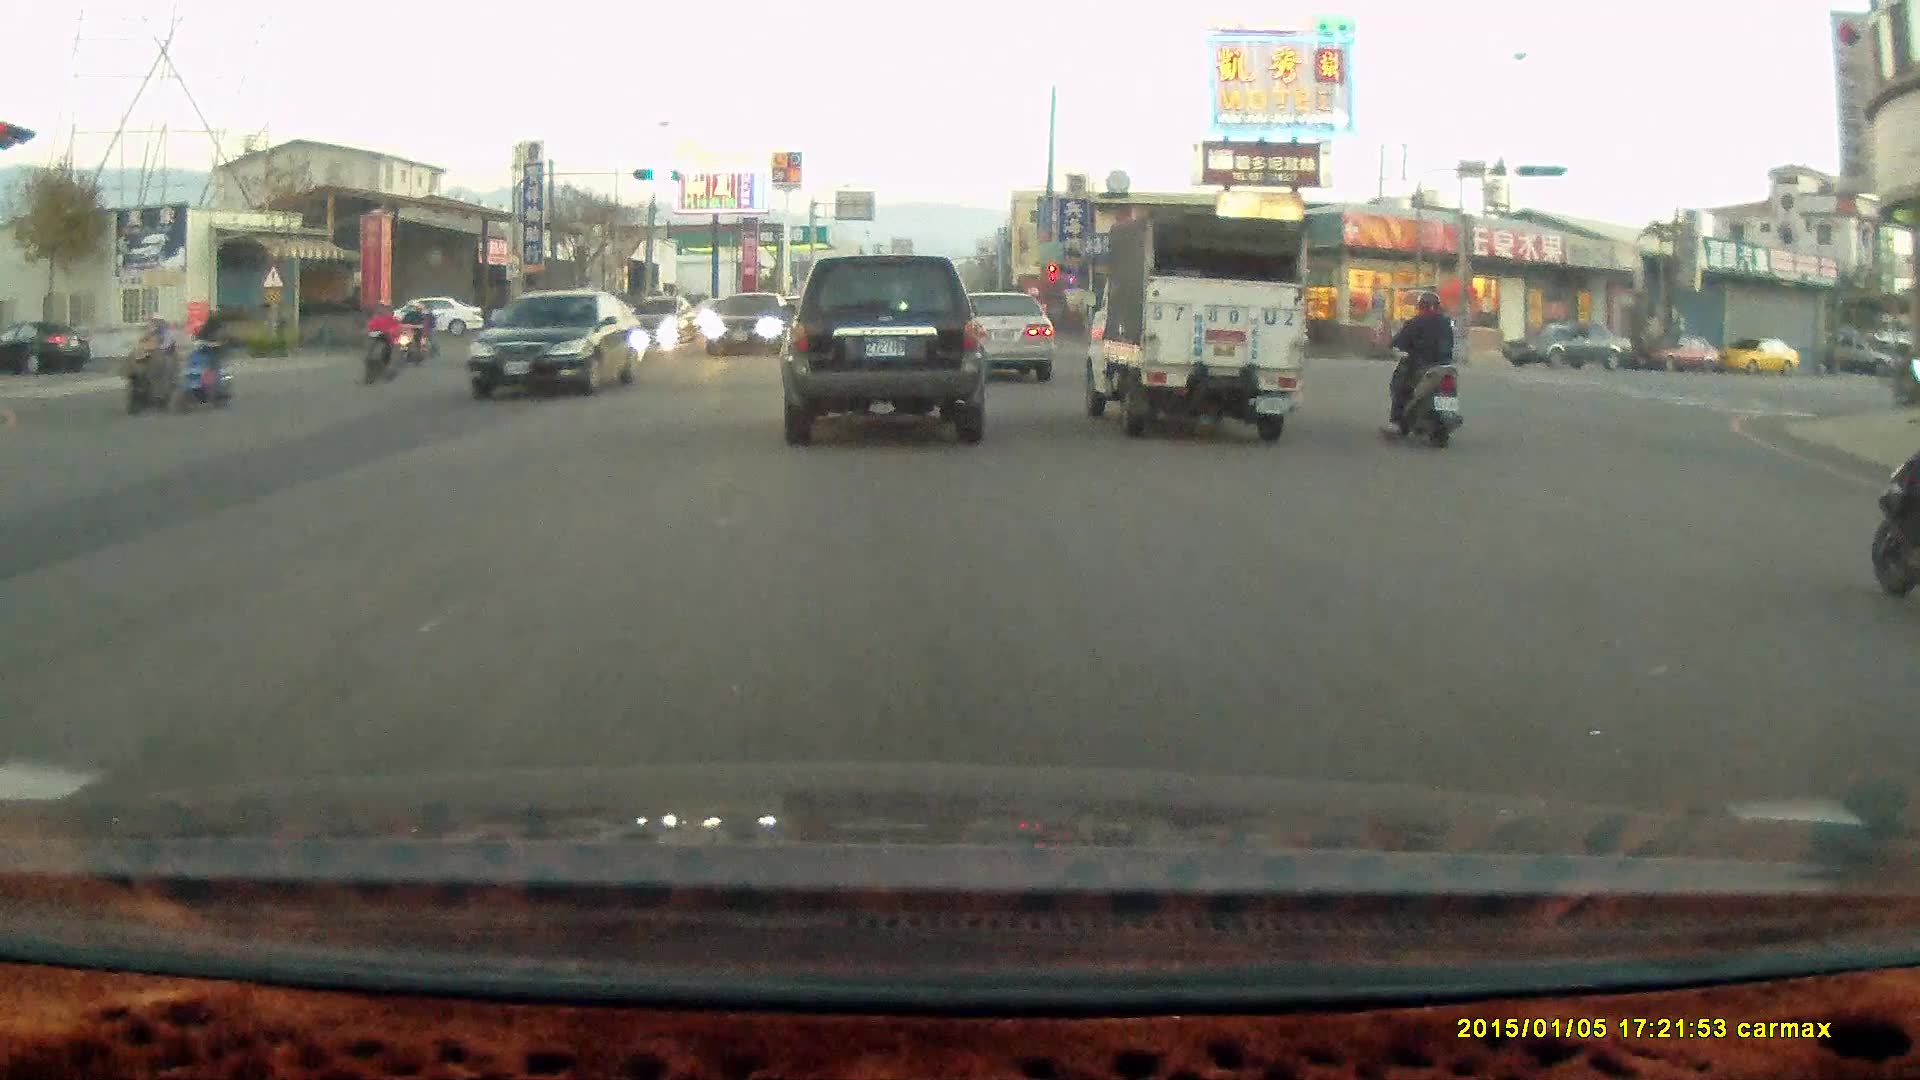rider: (1378, 286, 1464, 449), (1867, 414, 1920, 601), (116, 312, 184, 417), (162, 307, 228, 413), (357, 299, 403, 386), (396, 300, 431, 366)
vehicle: (1074, 212, 1305, 442), (778, 251, 987, 447), (473, 289, 651, 401), (937, 288, 1055, 384), (950, 290, 1060, 385), (701, 290, 798, 361), (1501, 322, 1638, 371), (391, 296, 487, 340), (1639, 336, 1725, 378), (1717, 336, 1803, 377)
